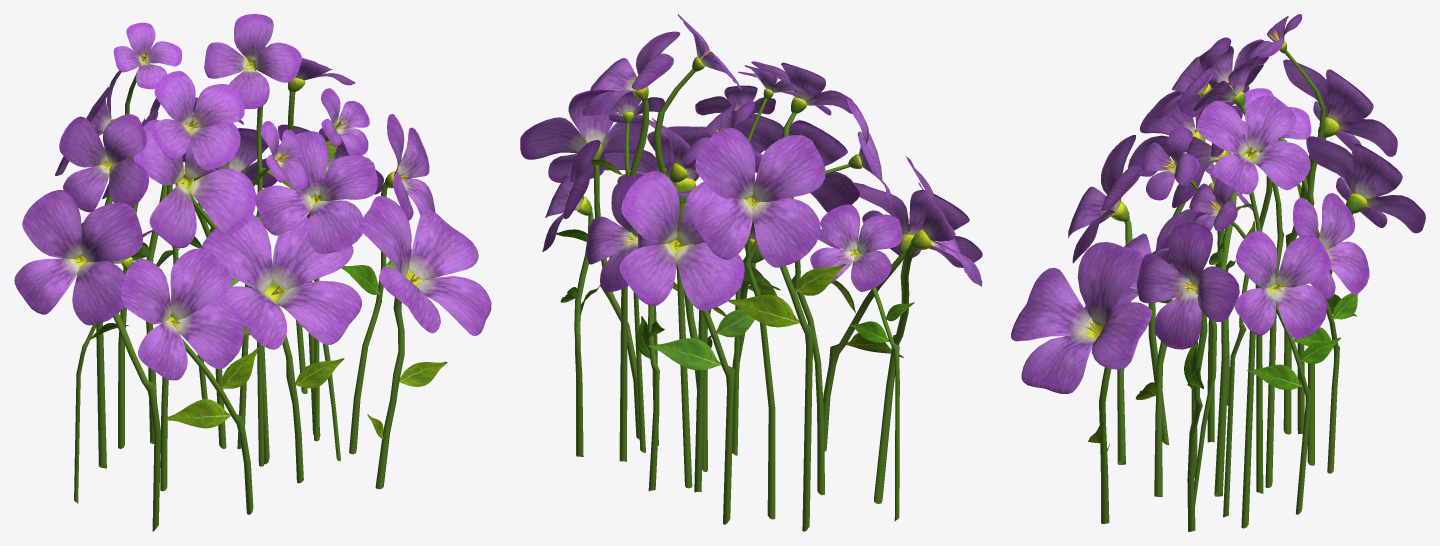
The model's file is Purple Flower Patch.fbx.
3 views of the same model, side by side, from view 1: azimuth 30°, elevation 25°; view 2: azimuth 150°, elevation 25°; view 3: azimuth 270°, elevation 25° (orthographic). The views are drawn at different scales.
Parts seen in each view (by area): view 1: node_id31; view 2: node_id31; view 3: node_id31.
Part boxes in pixels (left/top/right/bottom): node_id31: left=14, top=14, right=491, bottom=531; node_id31: left=520, top=14, right=982, bottom=531; node_id31: left=1011, top=14, right=1425, bottom=531.
Size of the model in its own units: 0.4964 by 0.512 by 0.4211.
Materials: 1 (1 with a texture image).
